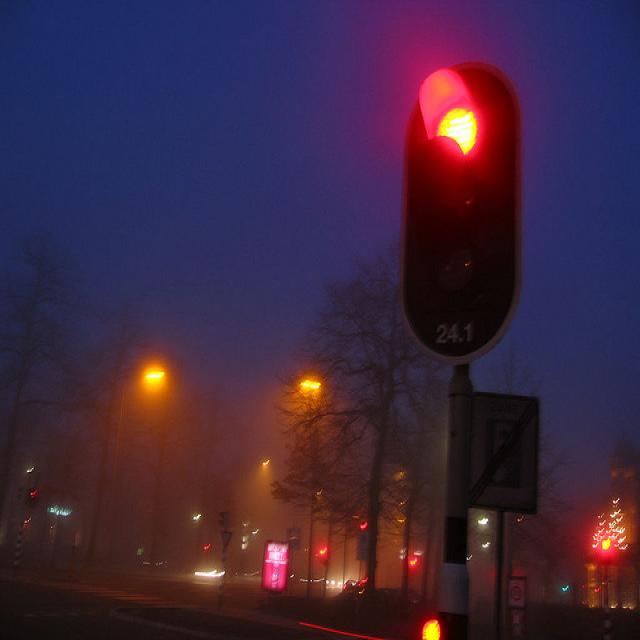Vehicle: (343, 579, 359, 591)
